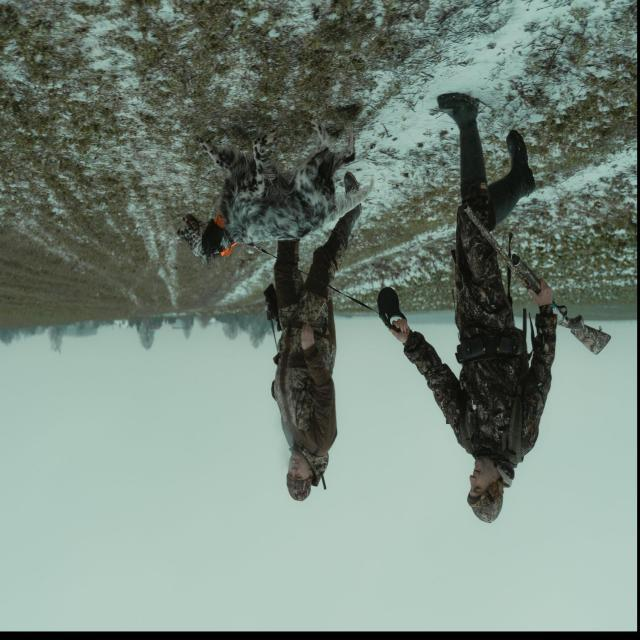weapon: (462, 202, 612, 356)
